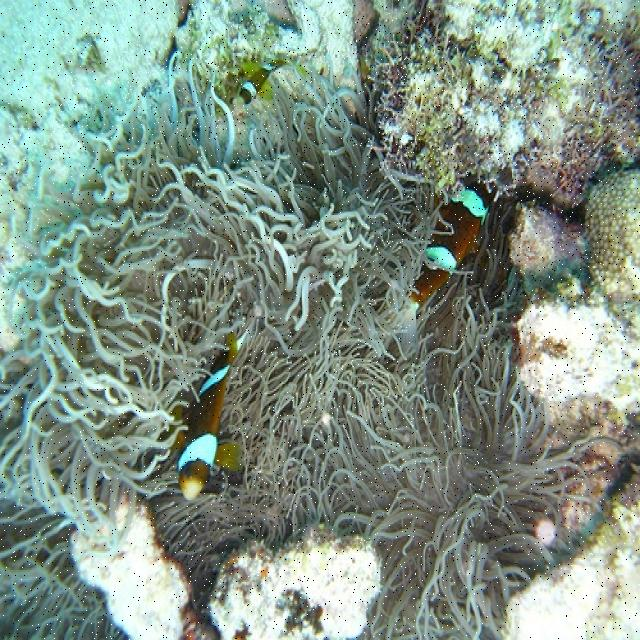fish: (383, 180, 498, 349), (174, 333, 245, 499), (236, 58, 308, 106)
reefs: (0, 37, 632, 638), (583, 171, 639, 298)
